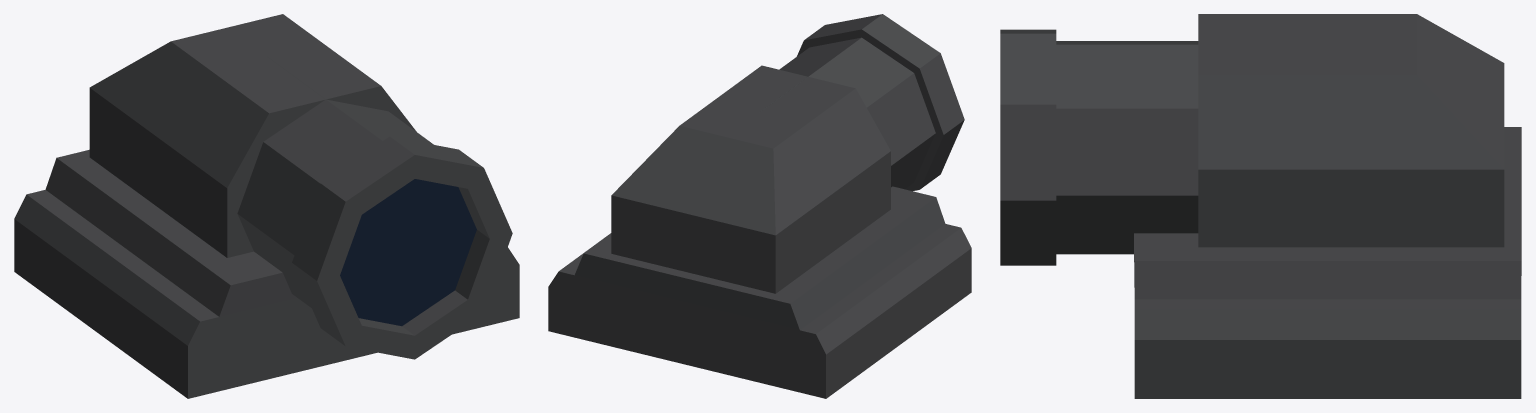
Rendered from flashlight.glb.
3 renders of one model, left to right at view 1: azimuth 30°, elevation 25°; view 2: azimuth 150°, elevation 25°; view 3: azimuth 270°, elevation 25°, orthographic. The views are drawn at different scales.
Parts seen in each view (by area): view 1: flashlight; view 2: flashlight; view 3: flashlight.
Part boxes in pixels (box(x1,y1,x2,y2)): flashlight: box(14, 14, 519, 398); flashlight: box(548, 14, 971, 398); flashlight: box(1000, 14, 1521, 398).
Bounding box in the file's own units: 0.3186 × 0.2272 × 0.3898.
